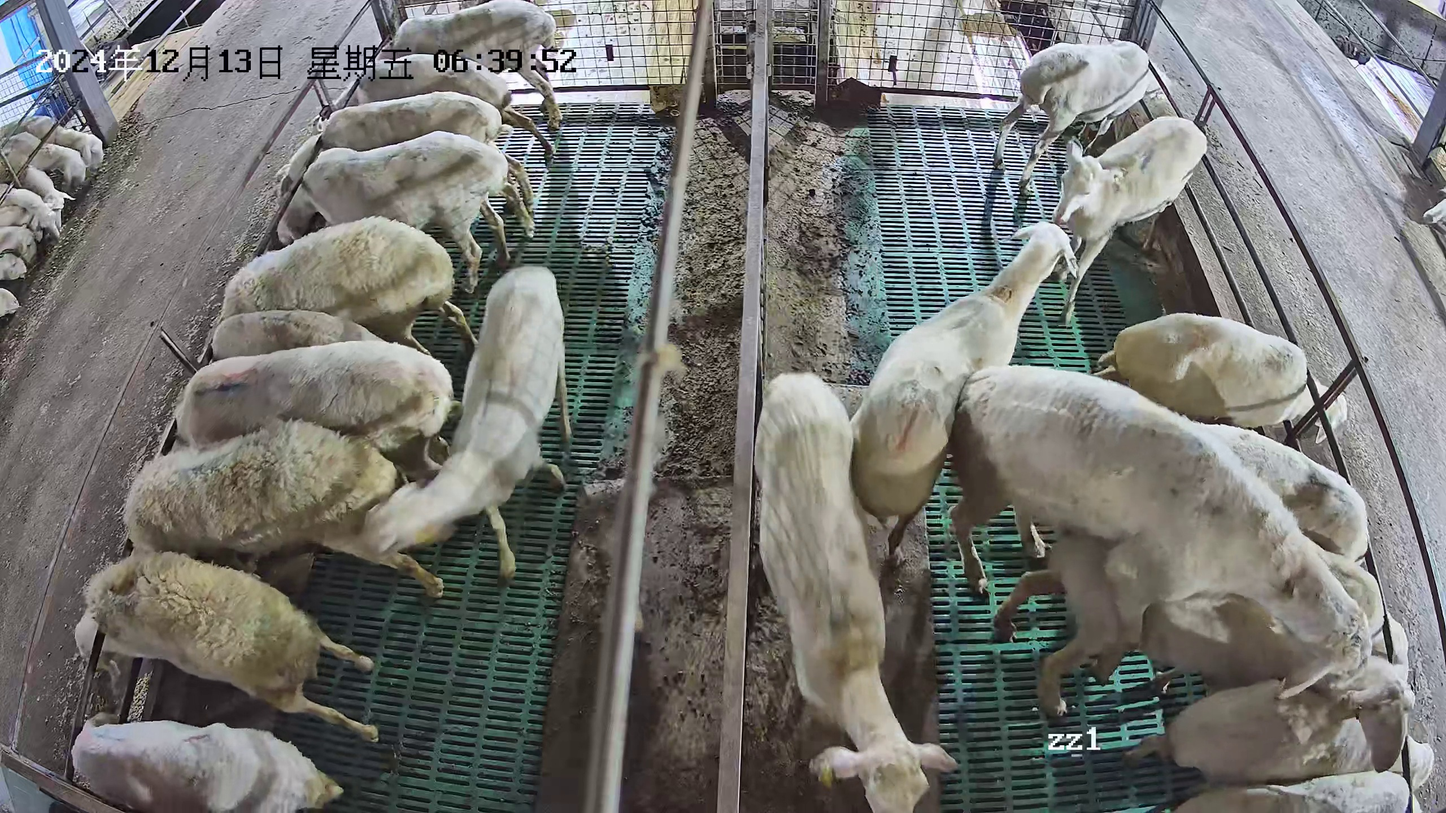Smounting: (947, 361, 1418, 777)
mounted: (987, 530, 1415, 773)
